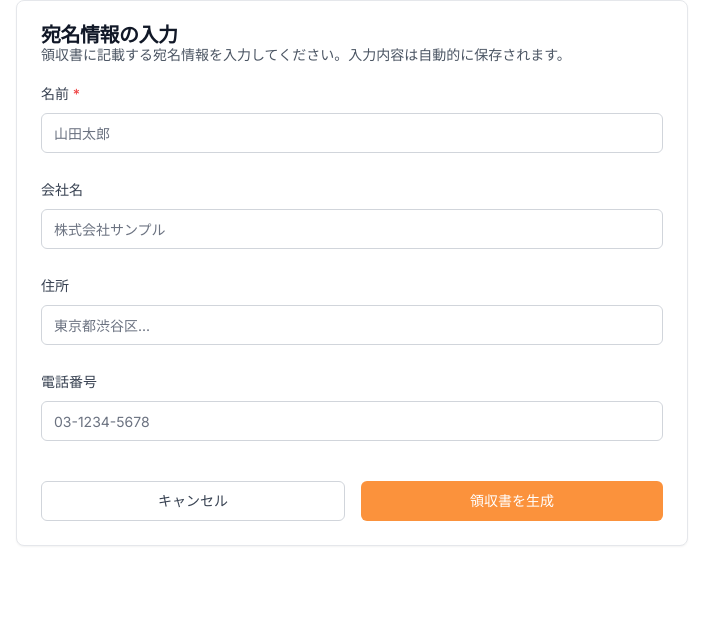
Scenario: CustomerInfoForm › バリデーション › エラーがある場合、送信ボタンが無効化される
Type "invalid-phone" into the field labelled "電話番号" at (352, 421), box [41, 401, 663, 441]
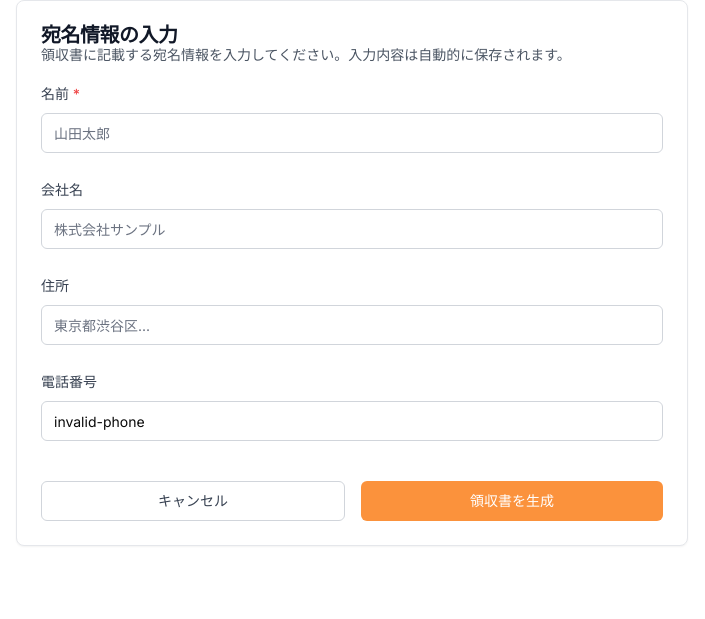
Click the button "領収書を生成" at (512, 501), box [361, 481, 663, 521]
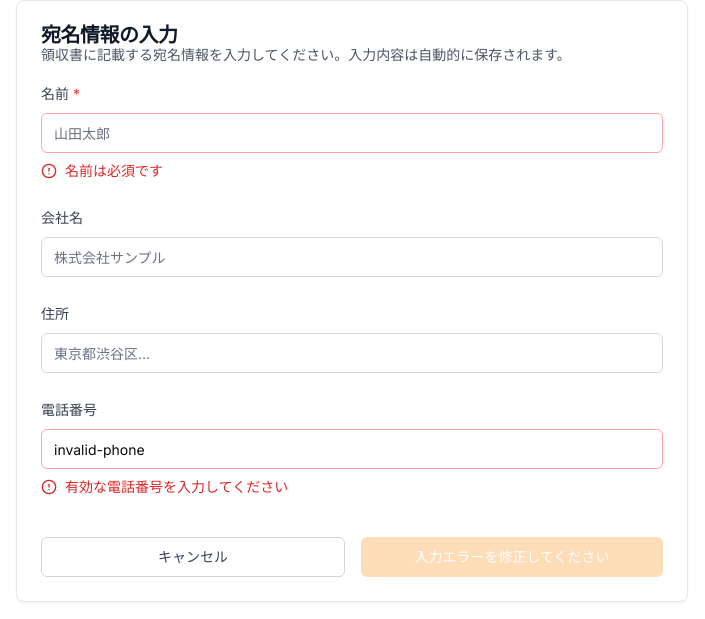
Check: the button "入力エラーを修正してください" is disabled, box [361, 537, 663, 577]
